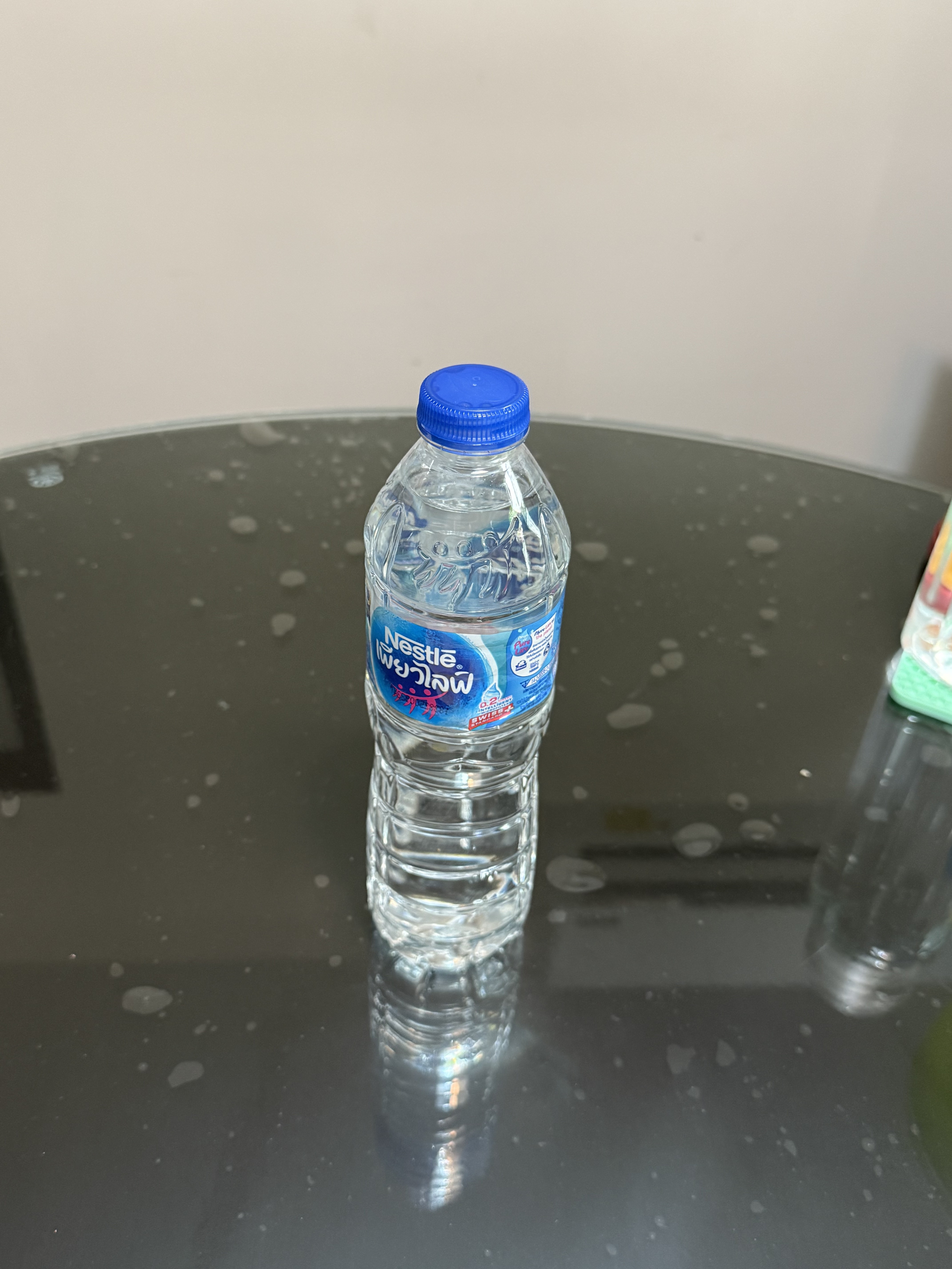closed_cap: (414, 360, 532, 454)
